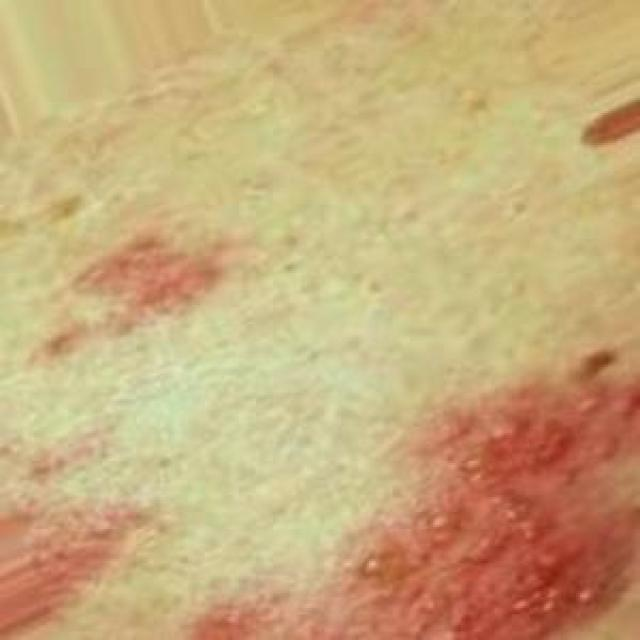Shingles: (333, 356, 640, 639), (52, 220, 218, 341)
